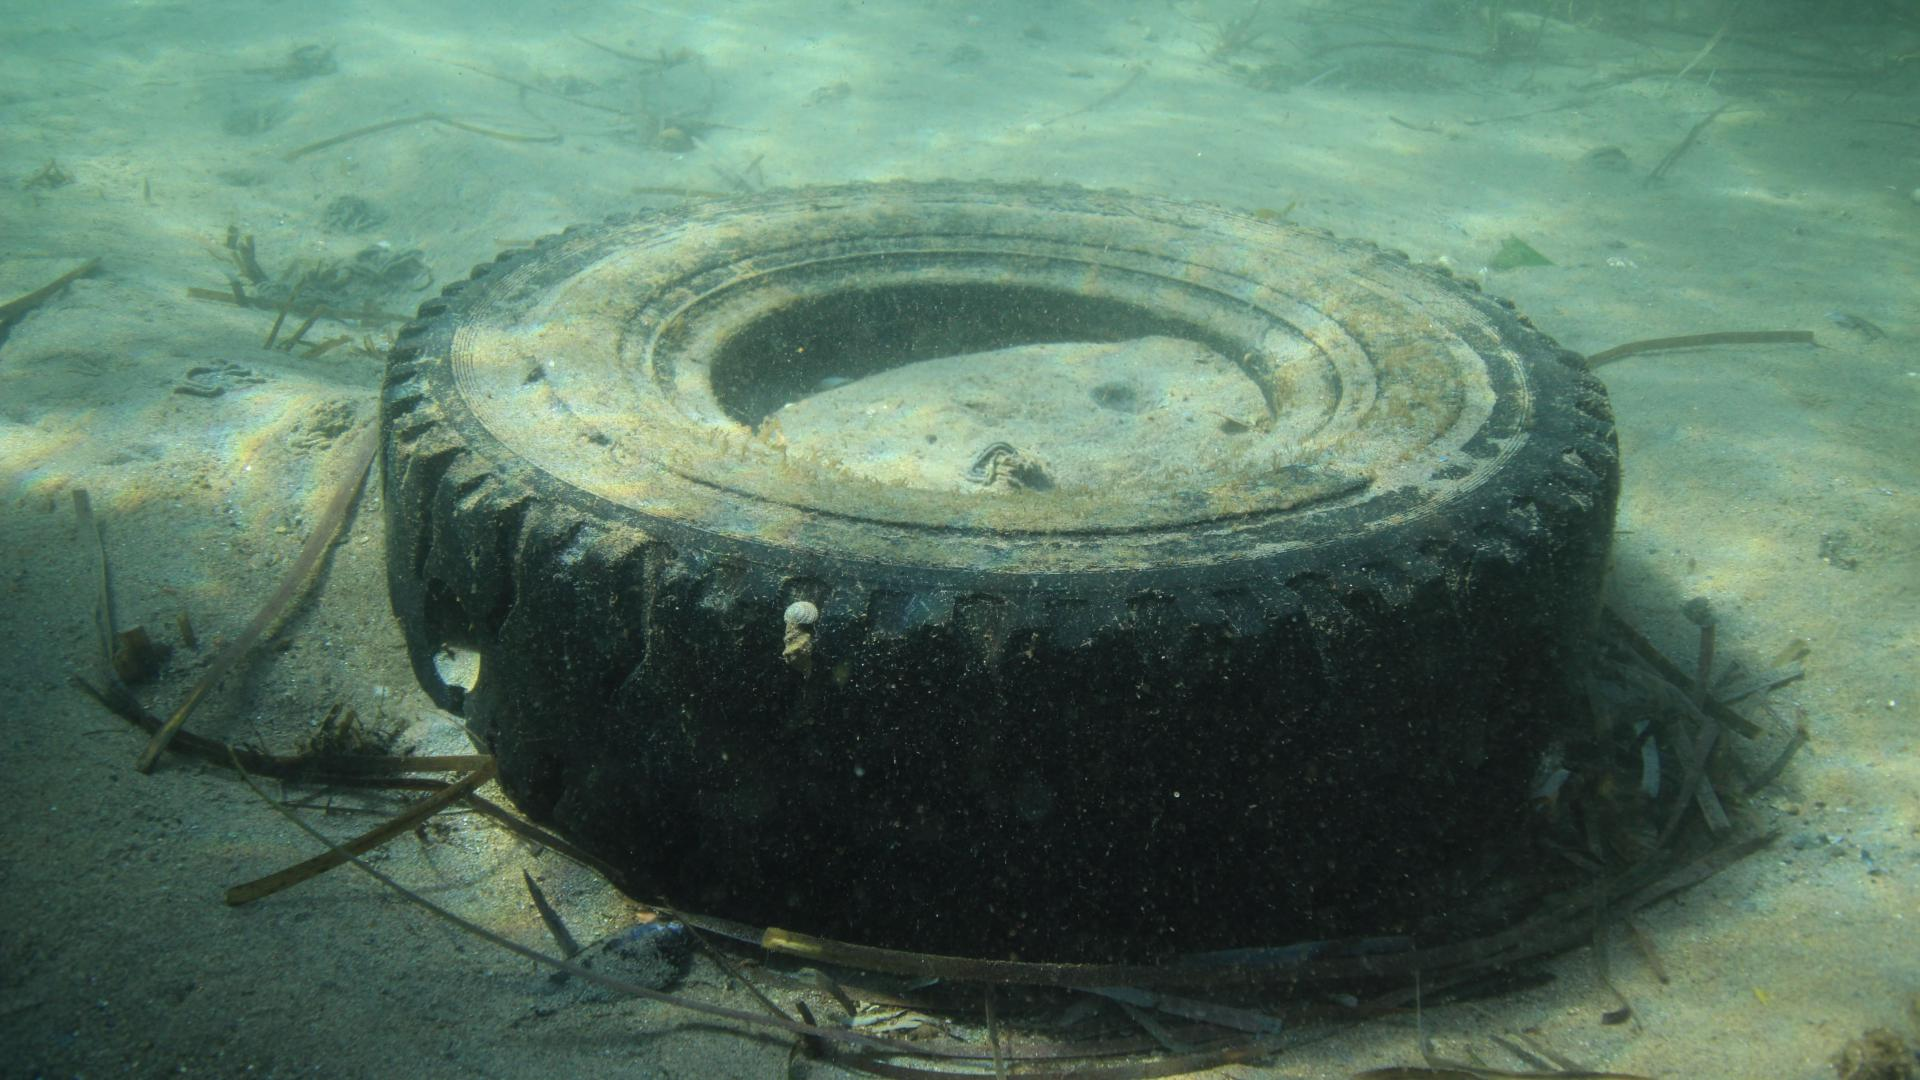tire: (375, 175, 1622, 965)
